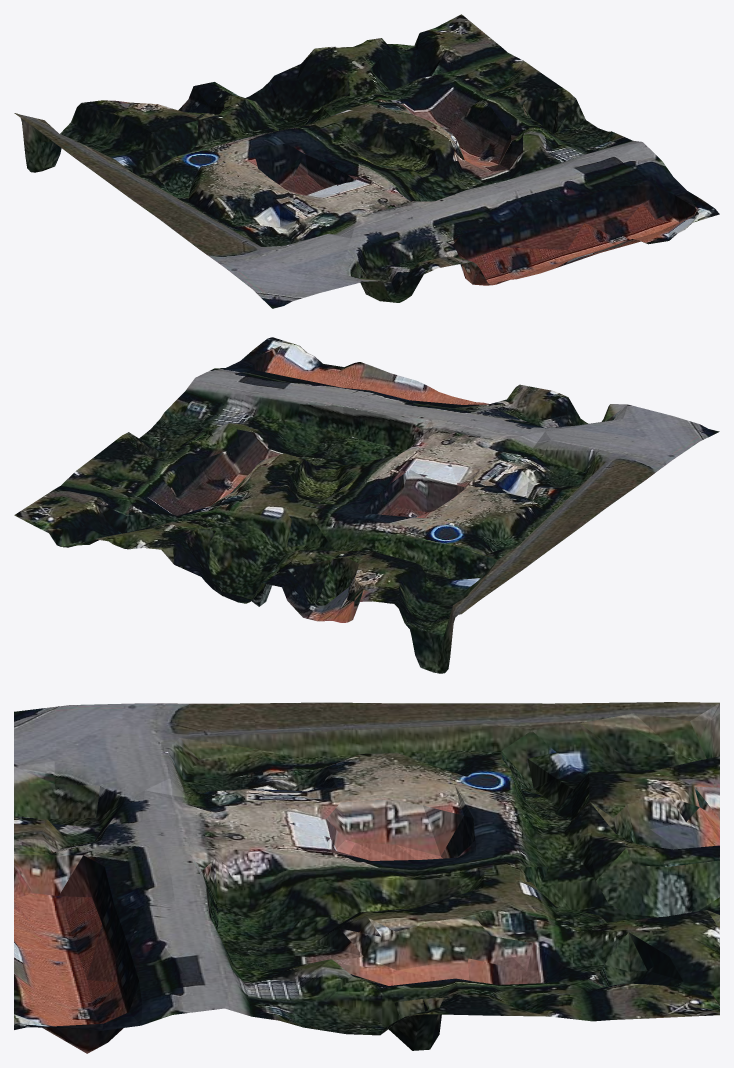
File: map_15_8187_13790.dae
3 views of the same model, one above another, from view 1: azimuth 30°, elevation 25°; view 2: azimuth 150°, elevation 25°; view 3: azimuth 270°, elevation 25° (orthographic). The views are drawn at different scales.
Parts seen in each view (by area): view 1: Ter0; view 2: Ter0; view 3: Ter0.
Boxes of the visible parts, left/top/right/bottom form: Ter0: left=14, top=14, right=719, bottom=308; Ter0: left=14, top=337, right=719, bottom=673; Ter0: left=14, top=702, right=719, bottom=1053.
Bounding box in the file's own units: 63.87 × 63.88 × 8.95.
Materials: 3 (3 with a texture image).
